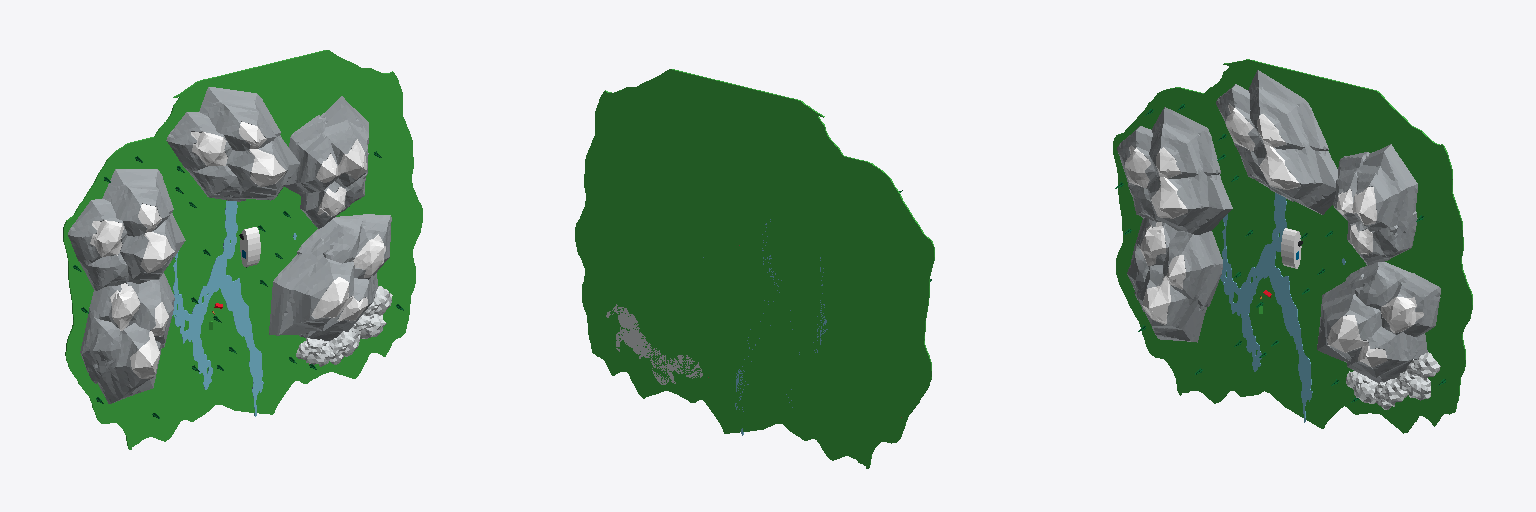
File: land.obj
3 views of the same model, side by side, from view 1: azimuth 30°, elevation 25°; view 2: azimuth 150°, elevation 25°; view 3: azimuth 330°, elevation 25° (orthographic).
Visible parts, largest first — view 1: obj_0, obj_4, obj_7, obj_5, obj_6, obj_3, obj_1, obj_32, obj_37, obj_30, obj_31; view 2: obj_0, obj_31; view 3: obj_0, obj_4, obj_7, obj_5, obj_6, obj_3, obj_1, obj_30, obj_37, obj_32, obj_31, obj_33.
Boxes of the visible parts, x1,y1,x2,y2 form: obj_0: [63, 50, 422, 449]; obj_4: [269, 214, 391, 340]; obj_7: [166, 87, 299, 201]; obj_5: [68, 169, 185, 290]; obj_6: [80, 273, 174, 403]; obj_3: [284, 96, 368, 228]; obj_1: [172, 201, 296, 416]; obj_32: [296, 338, 334, 366]; obj_37: [240, 227, 260, 266]; obj_30: [329, 329, 359, 364]; obj_31: [351, 314, 386, 338]; obj_0: [575, 69, 934, 468]; obj_31: [616, 329, 650, 357]; obj_0: [1113, 59, 1472, 433]; obj_4: [1317, 262, 1440, 382]; obj_7: [1216, 70, 1337, 214]; obj_5: [1117, 107, 1232, 234]; obj_6: [1127, 218, 1222, 342]; obj_3: [1333, 144, 1417, 265]; obj_1: [1220, 193, 1345, 422]; obj_30: [1374, 378, 1407, 409]; obj_37: [1281, 228, 1301, 268]; obj_32: [1346, 371, 1377, 403]; obj_31: [1396, 371, 1430, 400]; obj_33: [1406, 352, 1440, 381].
Size of the model in its own units: 986 by 924 by 128.